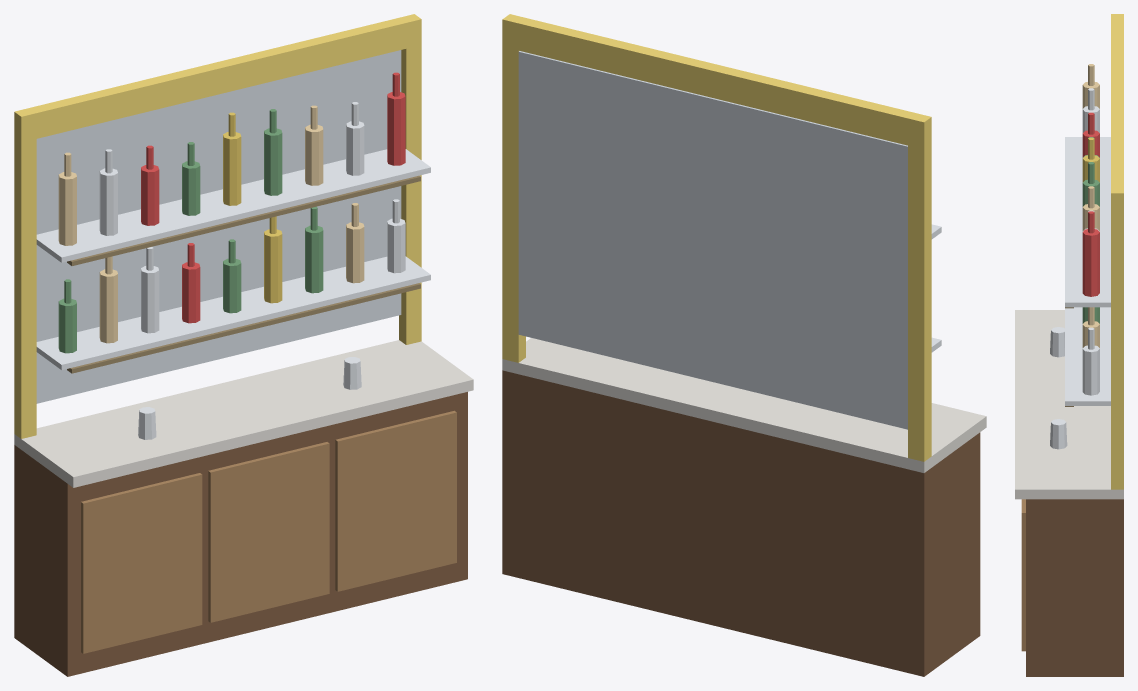
Rendered from HJ_BarraFondo.fbx.
3 renders of one model, left to right at view 1: azimuth 30°, elevation 25°; view 2: azimuth 150°, elevation 25°; view 3: azimuth 270°, elevation 25°, orthographic. The views are drawn at different scales.
Parts seen in each view (by area): view 1: HJ_BarraFondo; view 2: HJ_BarraFondo; view 3: HJ_BarraFondo.
Boxes of the visible parts, x1,y1,x2,y2 form: HJ_BarraFondo: [14, 14, 473, 676]; HJ_BarraFondo: [502, 14, 986, 676]; HJ_BarraFondo: [1015, 14, 1123, 676].
Bounding box in the file's own units: 1.95 × 2.45 × 0.5.
